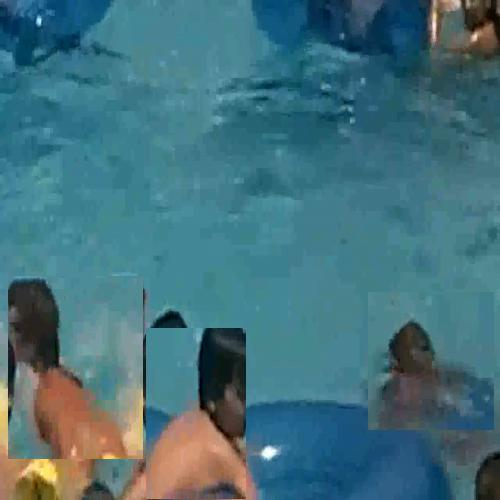drowning: (368, 292, 495, 431)
swimming: (8, 276, 145, 460), (146, 328, 247, 500)
